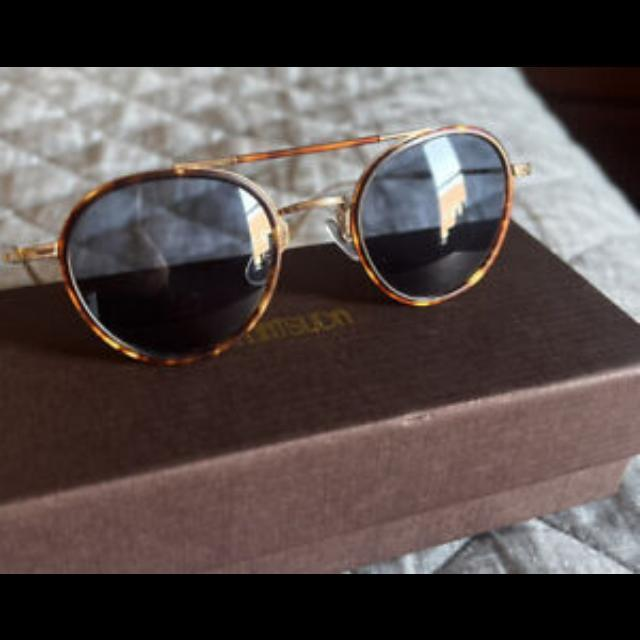glasses: (3, 113, 549, 351)
